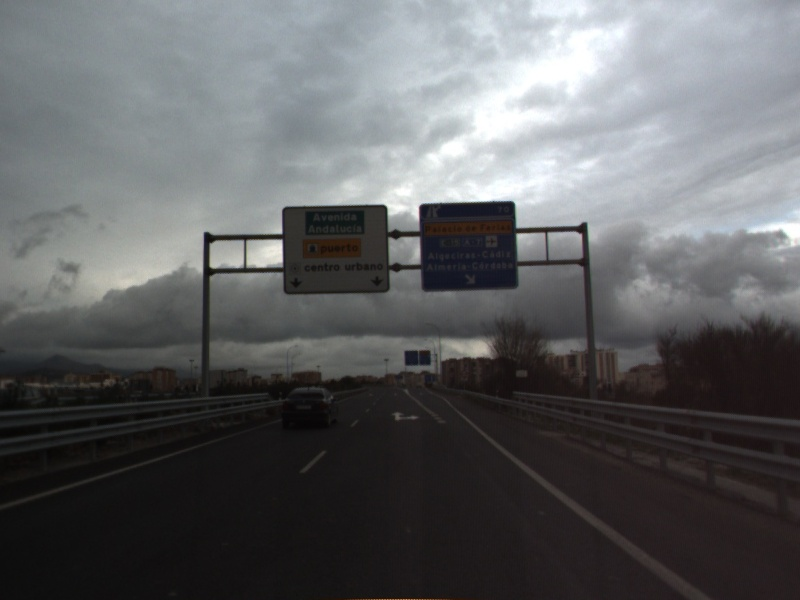STRAIGHT_RIGHT: (389, 409, 422, 423)
